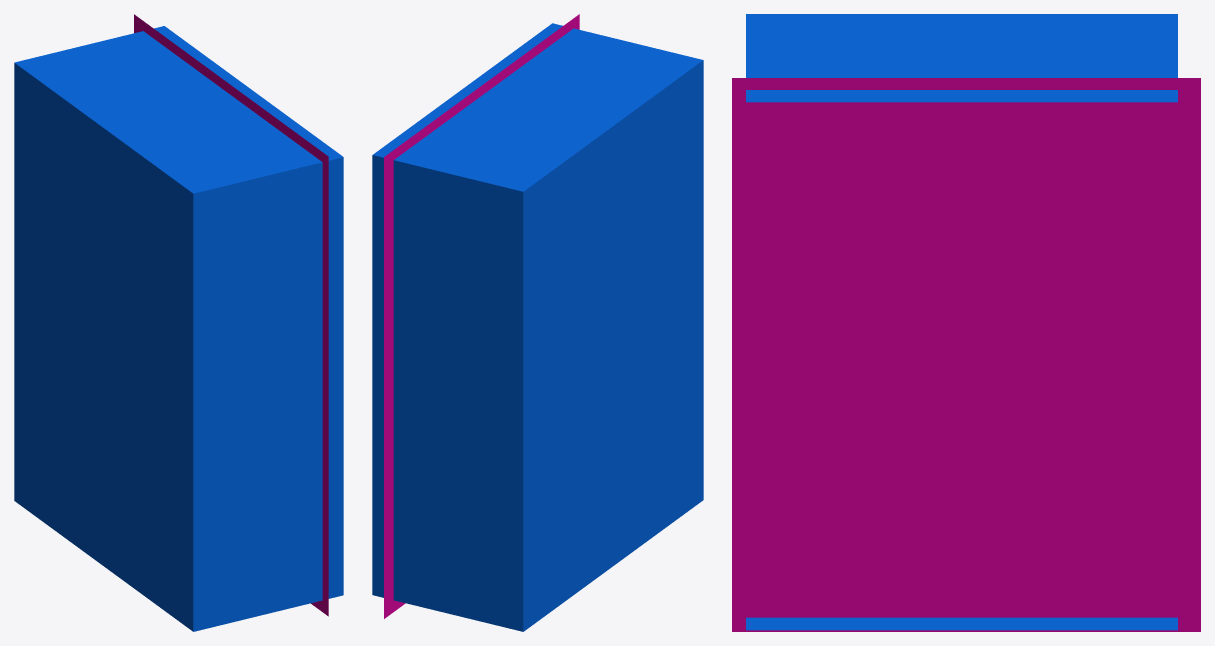
Rendered from Window.fbx.
3 renders of one model, left to right at view 1: azimuth 30°, elevation 25°; view 2: azimuth 150°, elevation 25°; view 3: azimuth 270°, elevation 25°, orthographic. The views are drawn at different scales.
Parts seen in each view (by area): view 1: pPlane2; view 2: pPlane2; view 3: pPlane2.
Part boxes in pixels (<box>): pPlane2: <box>14,14,343,631</box>; pPlane2: <box>372,14,703,631</box>; pPlane2: <box>732,14,1200,631</box>.
Size of the model in its own units: 2.27 by 6.64 by 5.1.
